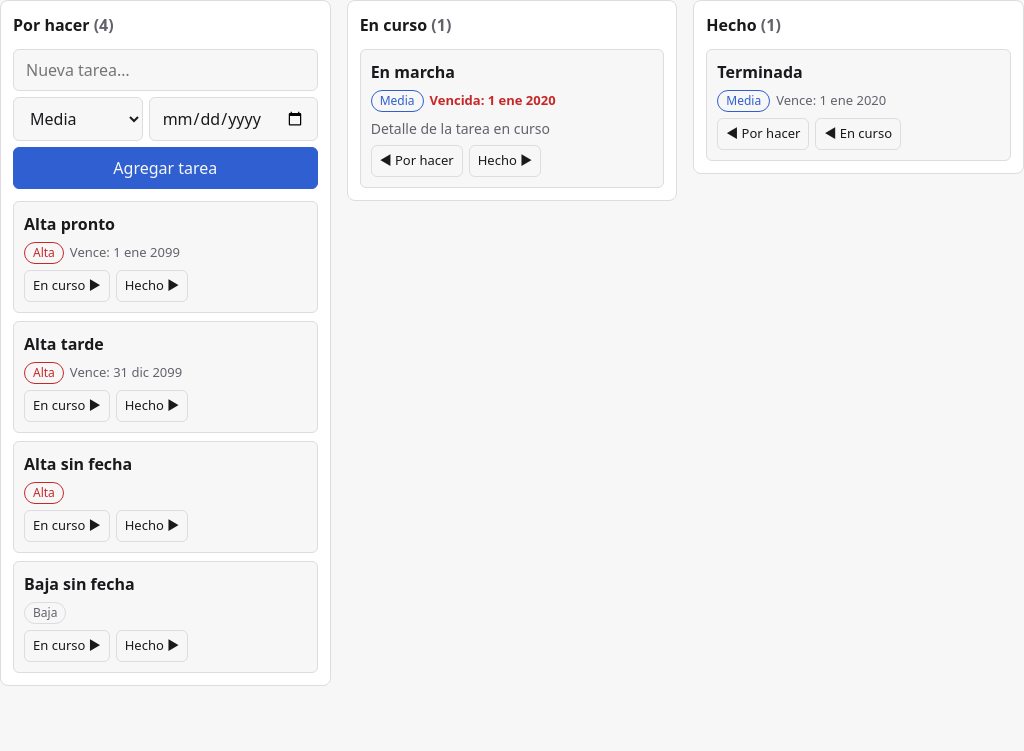
it: TaskBoard quick create › creates a task in "Por hacer" with priority and due date
Expected: the button "En marcha" is shown, [371,60,653,84]
Type "  Comprar pintura  " into the field named "Título de la nueva tarea" at coordinates (165, 70), box [13,49,318,91]
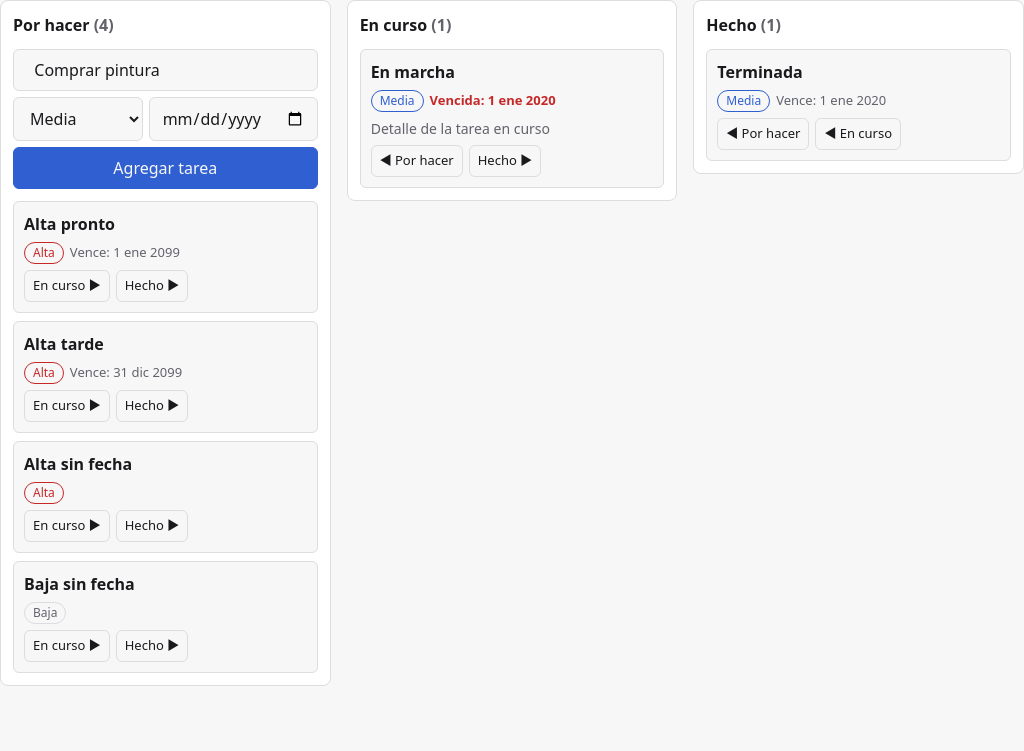
Select "Alta" in the dropdown named "Prioridad" at coordinates (78, 119), box [13,97,143,141]
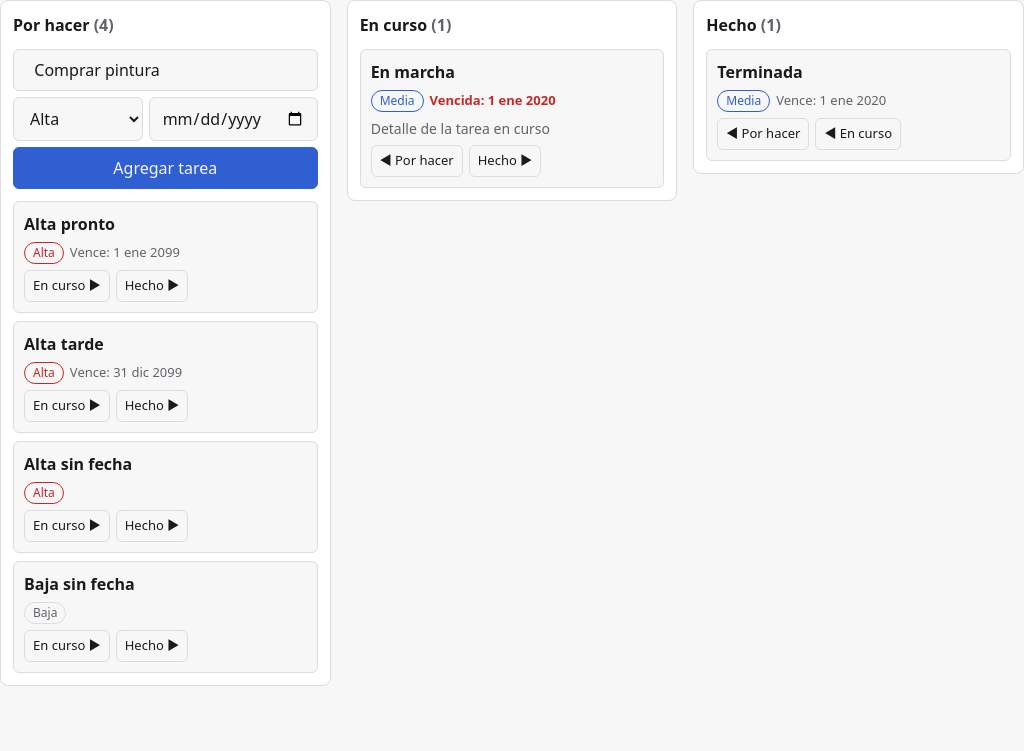
Type "2099-05-01" into the date field named "Vencimiento" at coordinates (233, 119), box [149,97,318,141]
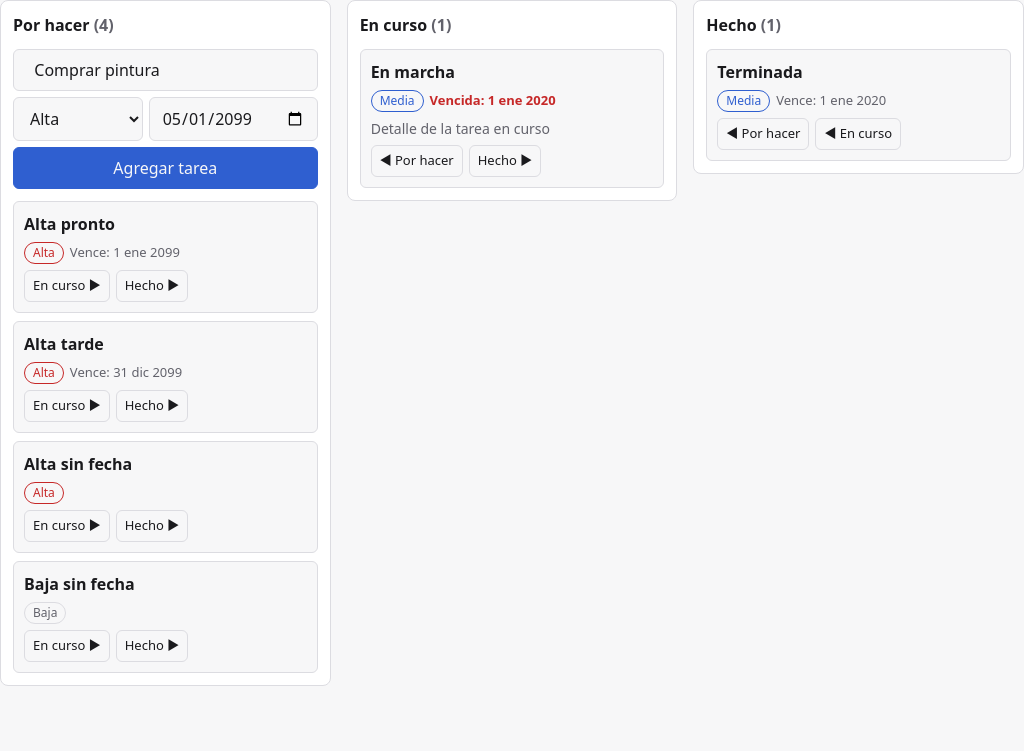
Click the button "Agregar tarea" at coordinates (165, 168), box [13,147,318,189]
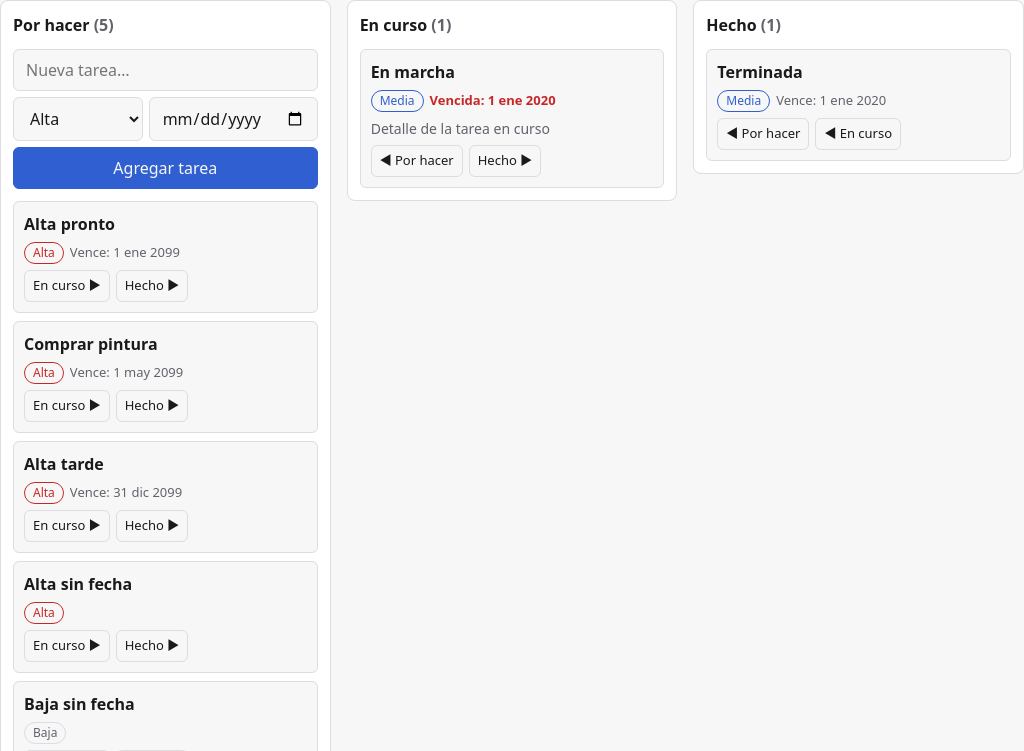
Result: the button "Comprar pintura" is shown at [24,332,307,356]
Result: the field named "Título de la nueva tarea" is empty at [13,49,318,91]
